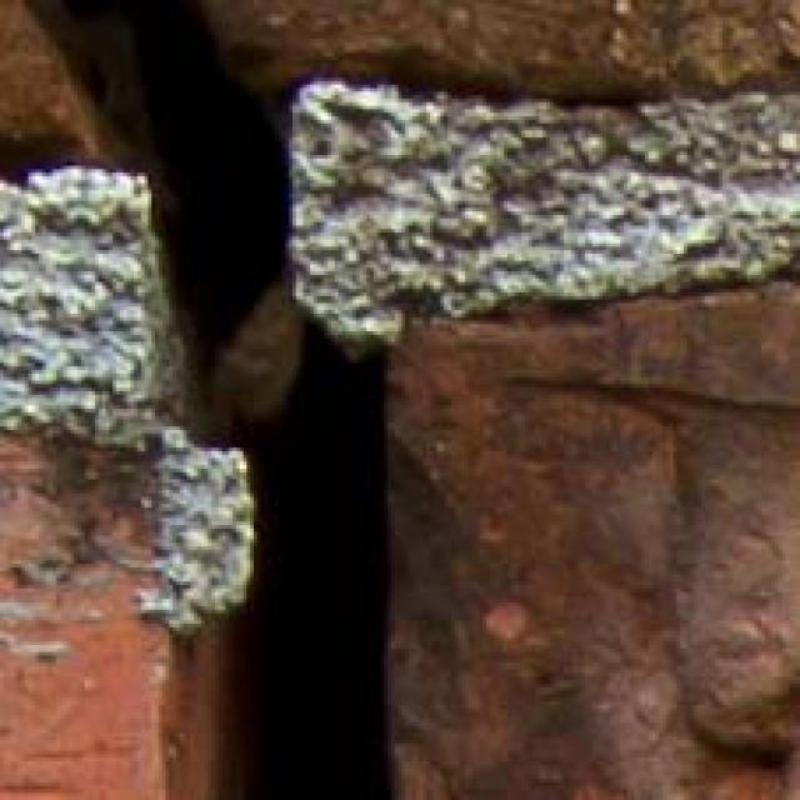crack: (37, 0, 288, 373), (233, 320, 391, 800), (0, 130, 100, 179)
